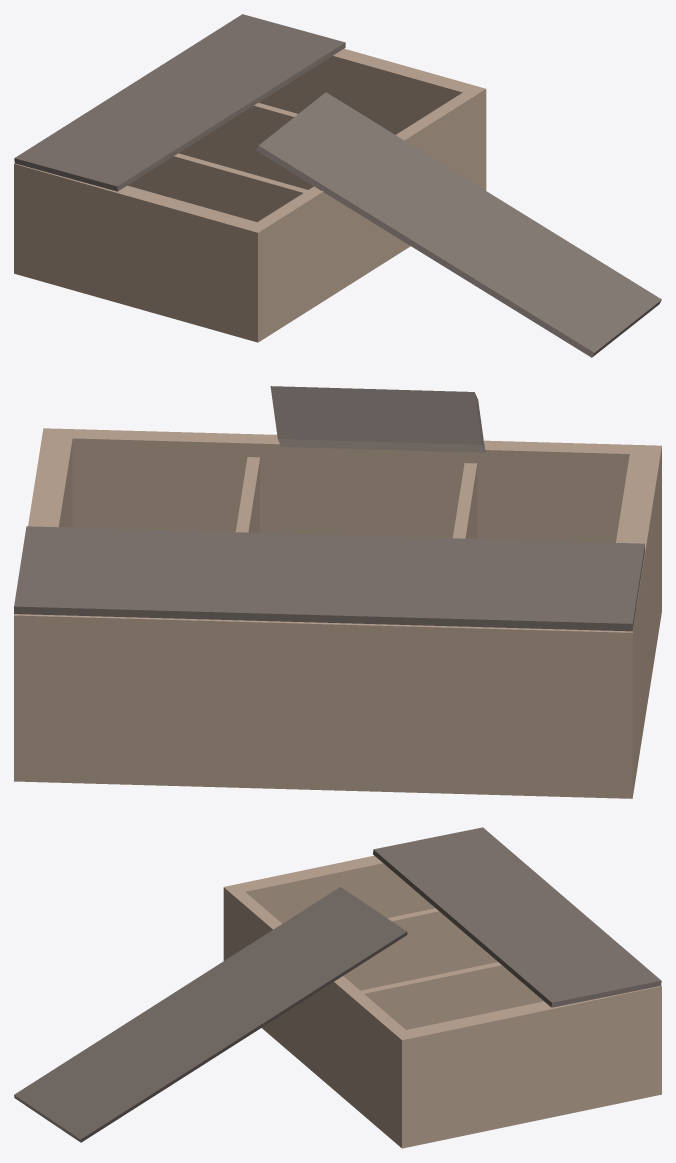
File: Closet.fbx
The picture shows the model from 3 angles, top to bottom: view 1: azimuth 30°, elevation 25°; view 2: azimuth 150°, elevation 25°; view 3: azimuth 270°, elevation 25°; orthographic projection. The views are drawn at different scales.
Parts seen in each view (by area): view 1: Closet; view 2: Closet; view 3: Closet.
Part boxes in pixels (left/top/right/bottom): Closet: left=14, top=14, right=661, bottom=357; Closet: left=14, top=386, right=661, bottom=798; Closet: left=14, top=827, right=661, bottom=1148.
Bounding box in the file's own units: 132 × 40.75 × 170.
